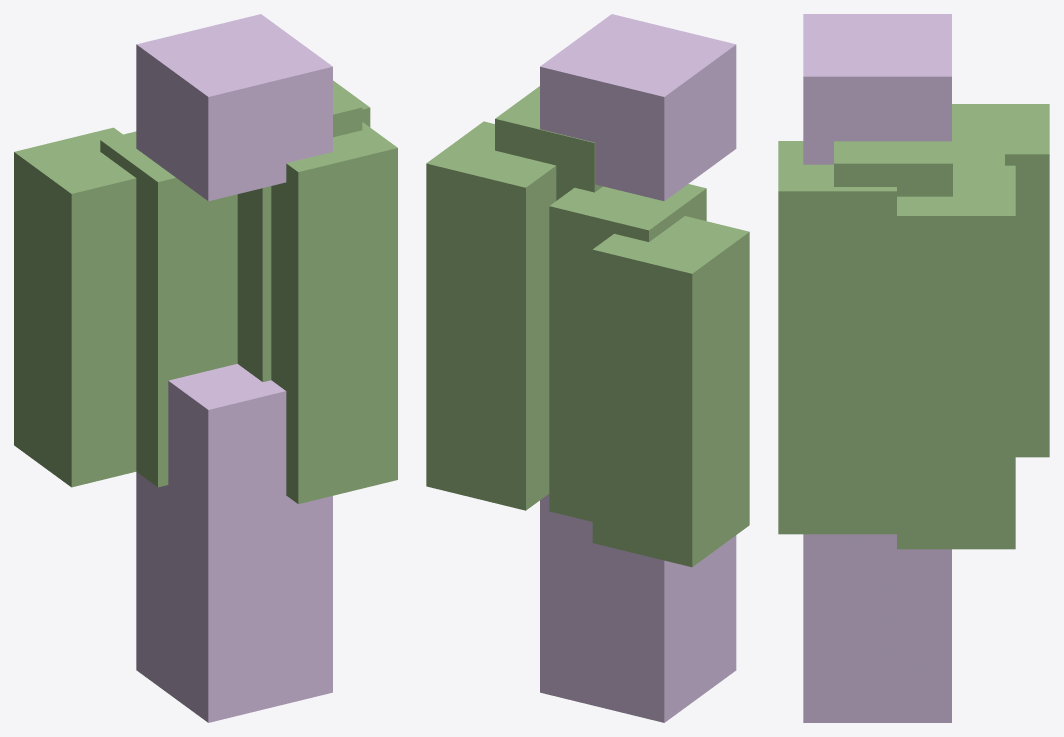
Rendered from Item_Herb_AMF_Dozeleaf_Bundle4.glb.
3 views of the same model, side by side, from view 1: azimuth 30°, elevation 25°; view 2: azimuth 150°, elevation 25°; view 3: azimuth 270°, elevation 25° (orthographic). The views are drawn at different scales.
Parts seen in each view (by area): view 1: Item_Herb_AMF_Dozeleaf_Bundle4; view 2: Item_Herb_AMF_Dozeleaf_Bundle4; view 3: Item_Herb_AMF_Dozeleaf_Bundle4.
Part boxes in pixels (box(x1,y1,x2,y2)): Item_Herb_AMF_Dozeleaf_Bundle4: box(14, 14, 397, 722); Item_Herb_AMF_Dozeleaf_Bundle4: box(426, 14, 749, 722); Item_Herb_AMF_Dozeleaf_Bundle4: box(778, 14, 1049, 722).
Bounding box in the file's own units: 0.1133 × 0.24 × 0.0914.
